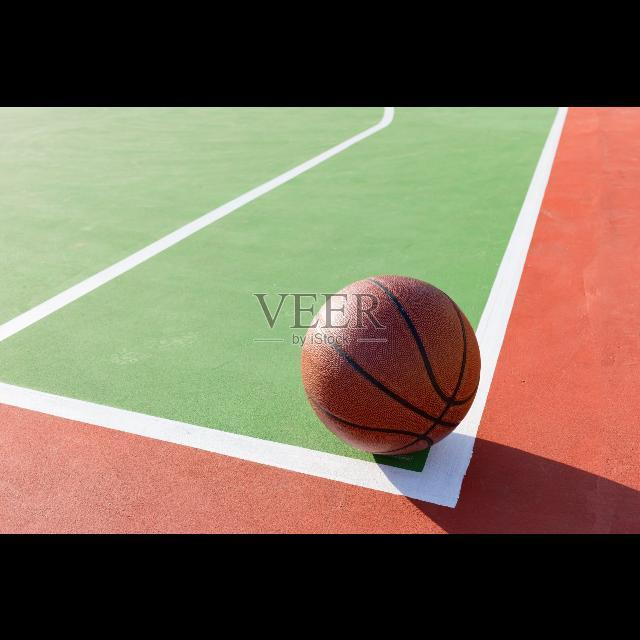basketball: (303, 275, 482, 453)
